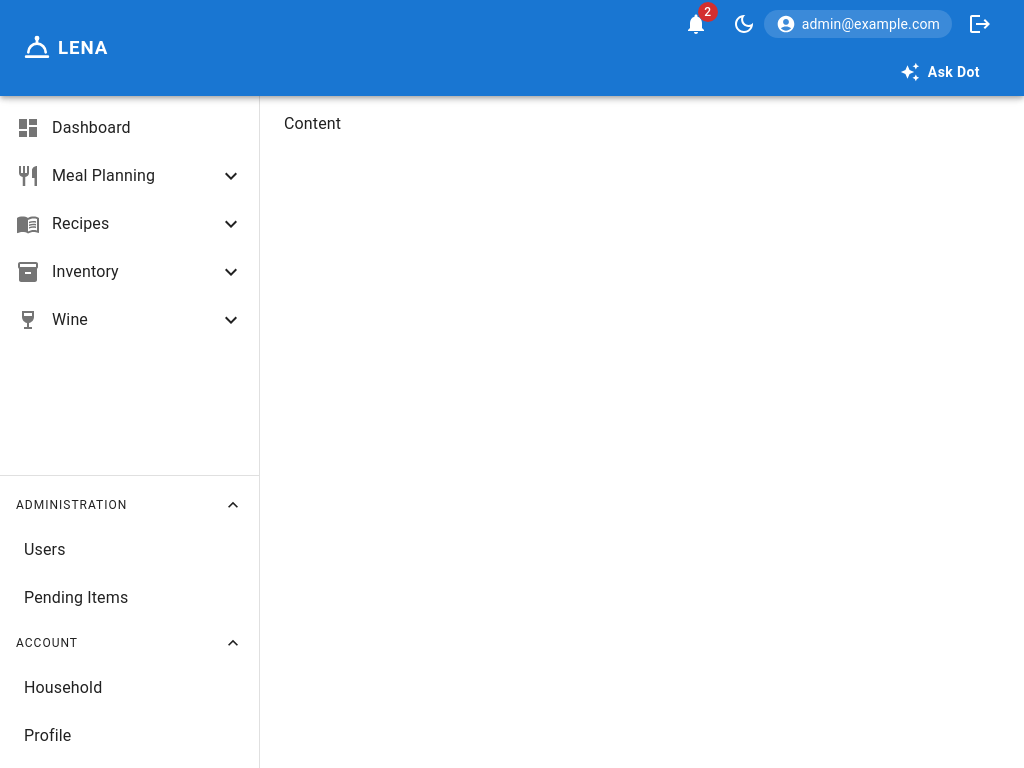
Test case: AdminLayout › marks a single notification read when it is clicked
Expected: the element with test id "notification-badge" reads "2", [704,5,711,19]
Click the button named "notifications" at [696, 24], box [676,4,716,44]
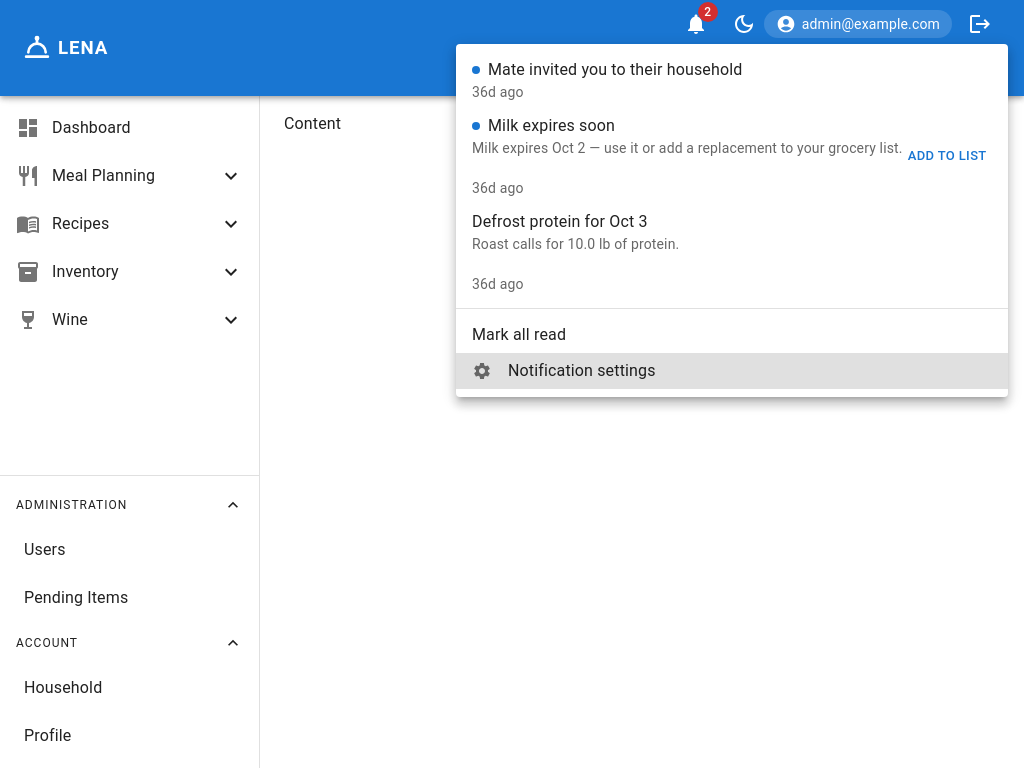
Click the text "Mate invited you to their household" at [607, 70], box [472,60,742,79]
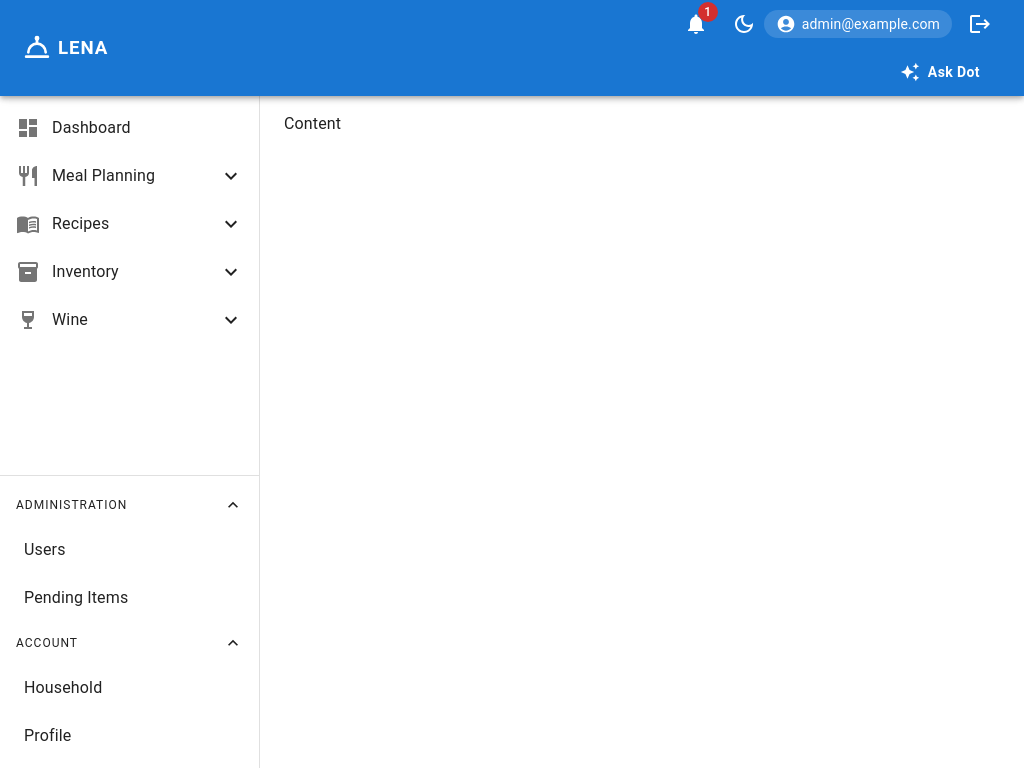
Expected: the element with test id "notification-badge" reads "1", [704,5,711,19]
